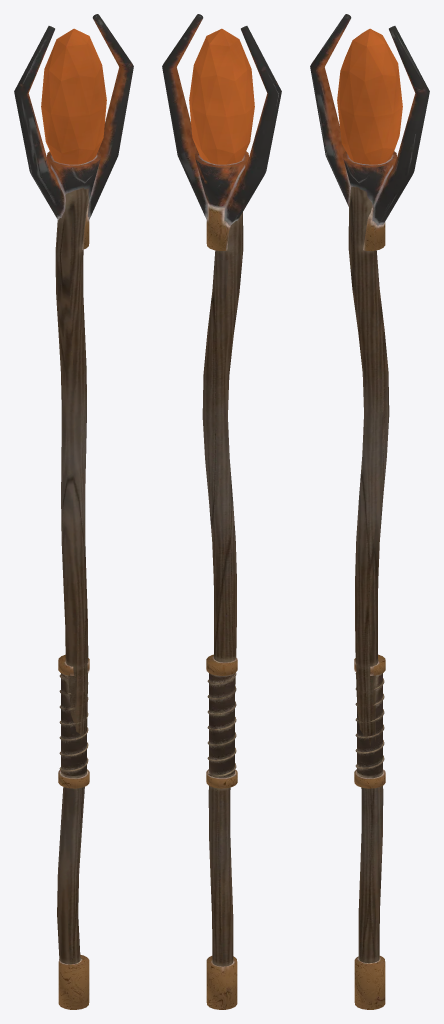
Rendered from eq_staff_3.glb.
3 views of the same model, side by side, from view 1: azimuth 30°, elevation 25°; view 2: azimuth 150°, elevation 25°; view 3: azimuth 330°, elevation 25° (orthographic).
Parts seen in each view (by area): view 1: eq_staff_3; view 2: eq_staff_3; view 3: eq_staff_3.
Boxes of the visible parts, x1,y1,x2,y2 form: eq_staff_3: (14, 14, 133, 1009); eq_staff_3: (162, 14, 281, 1009); eq_staff_3: (310, 14, 429, 1009).
Bounding box in the file's own units: 0.2579 × 2.05 × 0.1196.
1 material, 1 textured.
